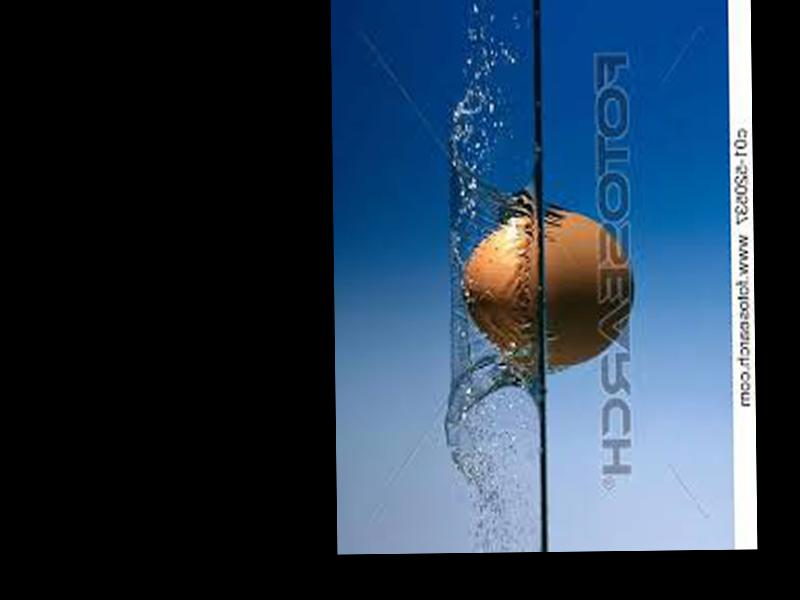Eggs: (460, 209, 632, 368)
